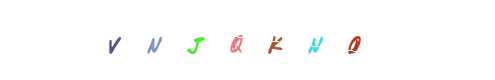0: (279, 0, 359, 80)
J: (189, 0, 269, 80)
K: (220, 0, 300, 80)
N: (156, 0, 236, 80), (275, 0, 355, 80)
Q: (207, 0, 287, 80)
V: (93, 0, 173, 80)
